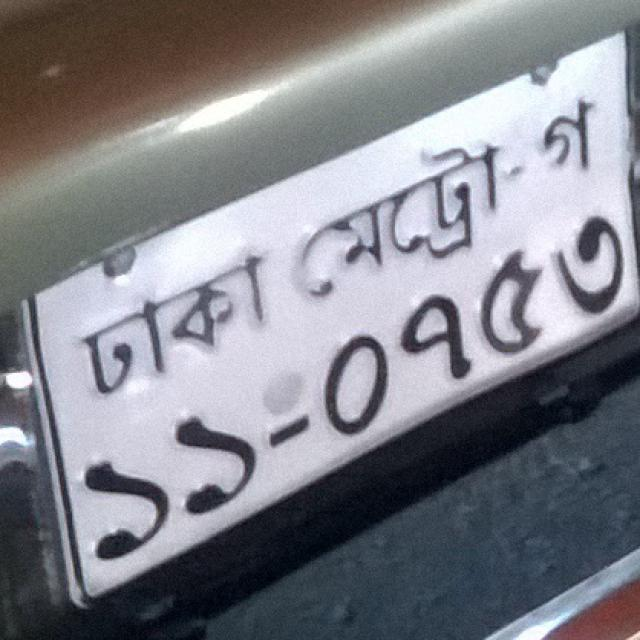numberplate: (13, 17, 639, 622)
